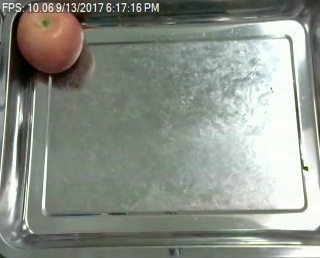Apple: (17, 3, 84, 73)
